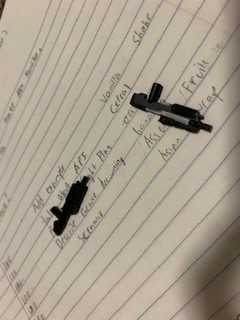rifle: (125, 81, 215, 136), (49, 174, 90, 237)
